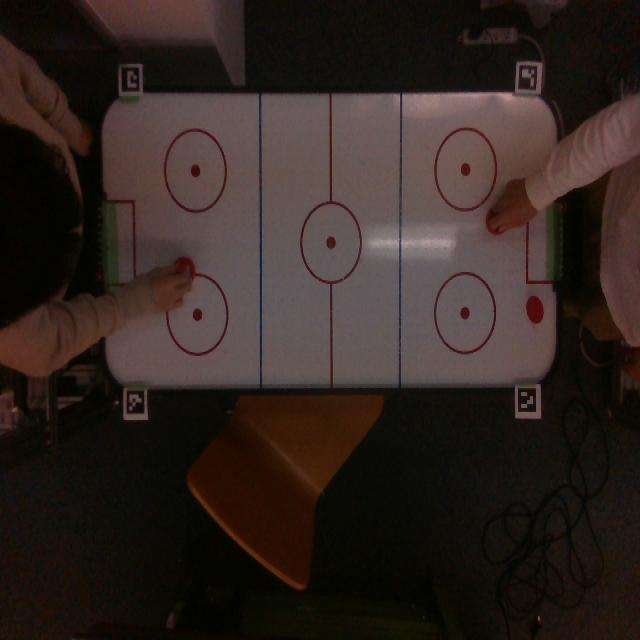puck: (526, 296, 544, 324)
